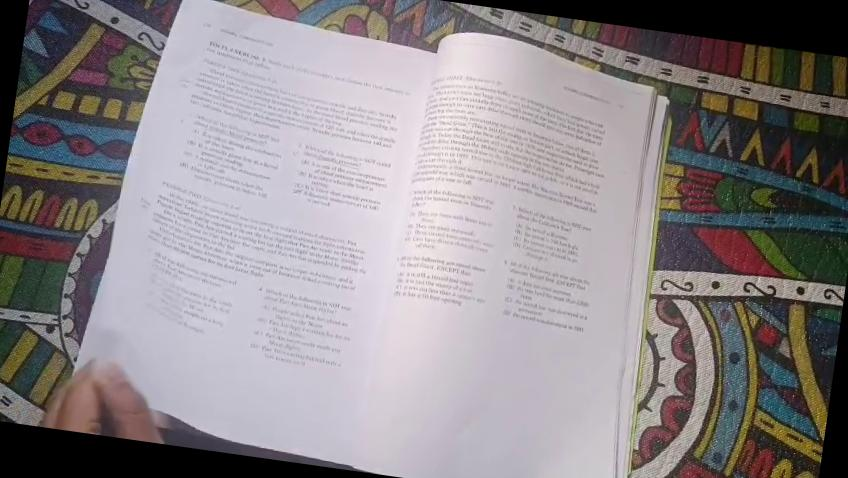Kertas: (80, 0, 442, 463), (367, 25, 671, 478)
